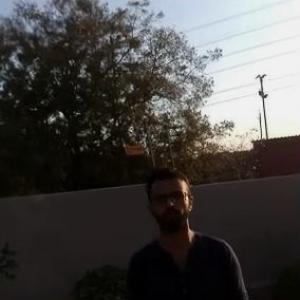follow: (120, 163, 257, 299)
